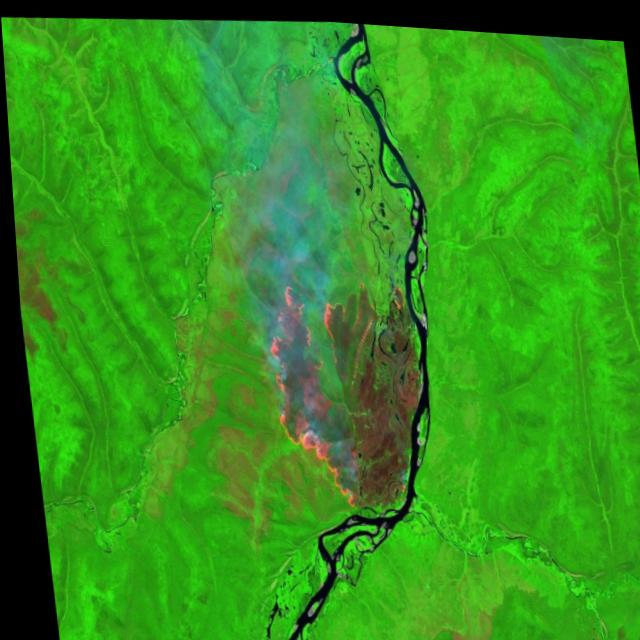fire: (250, 263, 388, 511), (382, 269, 406, 307)
